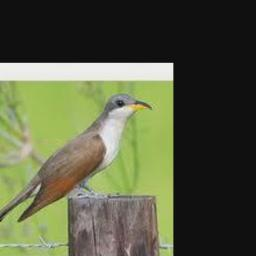Cuckoo: (0, 93, 151, 244)
